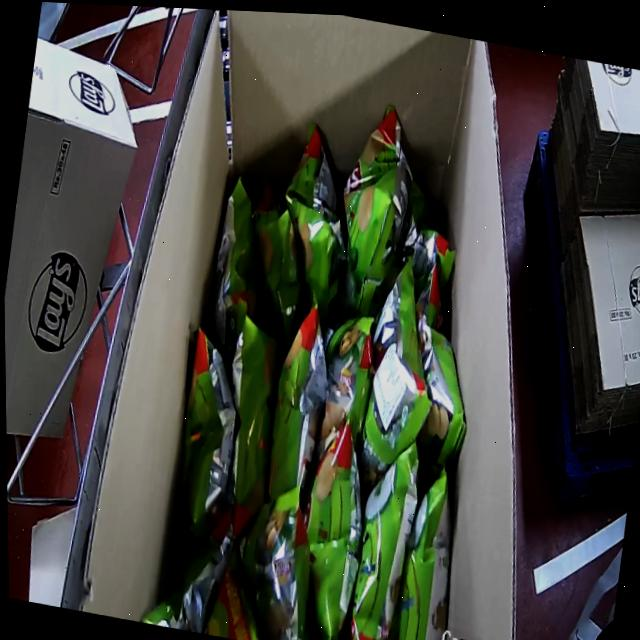YOGURT_HERB: (130, 72, 517, 640)
